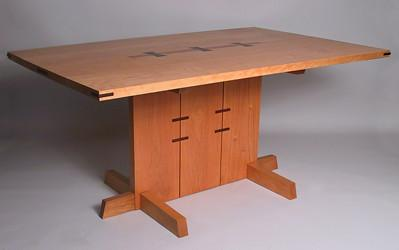table: (7, 26, 392, 238)
